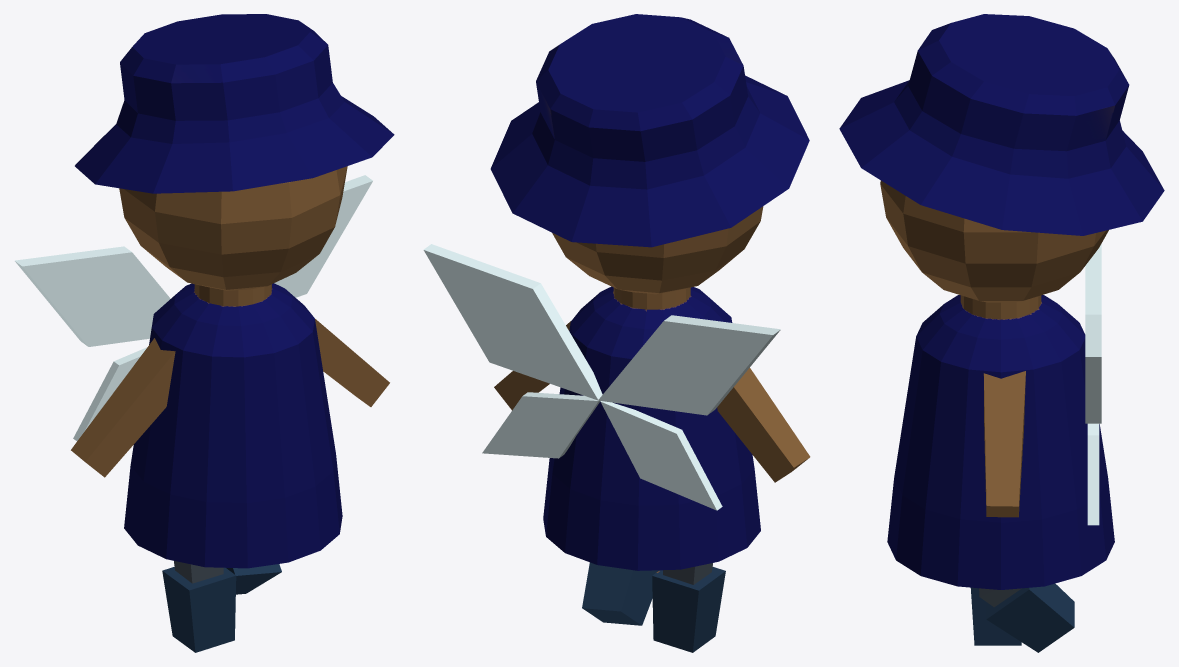
The model's file is BLUENymph.fbx.
3 views of the same model, side by side, from view 1: azimuth 30°, elevation 25°; view 2: azimuth 150°, elevation 25°; view 3: azimuth 270°, elevation 25° (orthographic). The views are drawn at different scales.
Parts seen in each view (by area): view 1: hat; view 2: hat; view 3: hat.
Part boxes in pixels (x1=…): hat: x1=15, y1=14, x2=394, y2=652; hat: x1=423, y1=14, x2=810, y2=652; hat: x1=839, y1=14, x2=1164, y2=652.
Size of the model in its own units: 313 by 508 by 244.
